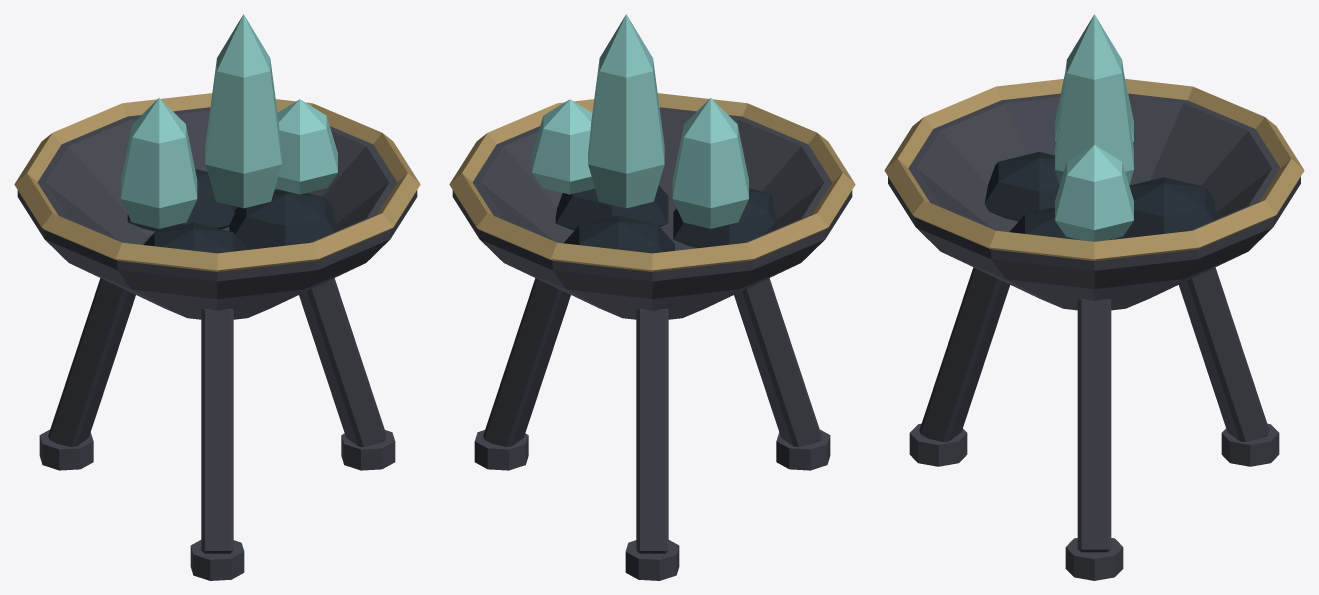
File: 05_Tripod_Brazier.glb
The picture shows the model from 3 angles, left to right: view 1: azimuth 30°, elevation 25°; view 2: azimuth 150°, elevation 25°; view 3: azimuth 270°, elevation 25°; orthographic projection. The views are drawn at different scales.
Visible parts, largest first — view 1: 05_Tripod_Brazier__Body; view 2: 05_Tripod_Brazier__Body; view 3: 05_Tripod_Brazier__Body.
Part boxes in pixels (x1=…): 05_Tripod_Brazier__Body: x1=14, y1=14, x2=420, y2=580; 05_Tripod_Brazier__Body: x1=449, y1=14, x2=855, y2=580; 05_Tripod_Brazier__Body: x1=884, y1=14, x2=1304, y2=580.
Bounding box in the file's own units: 1.75 × 2.26 × 1.75.
1 material, 1 textured.
